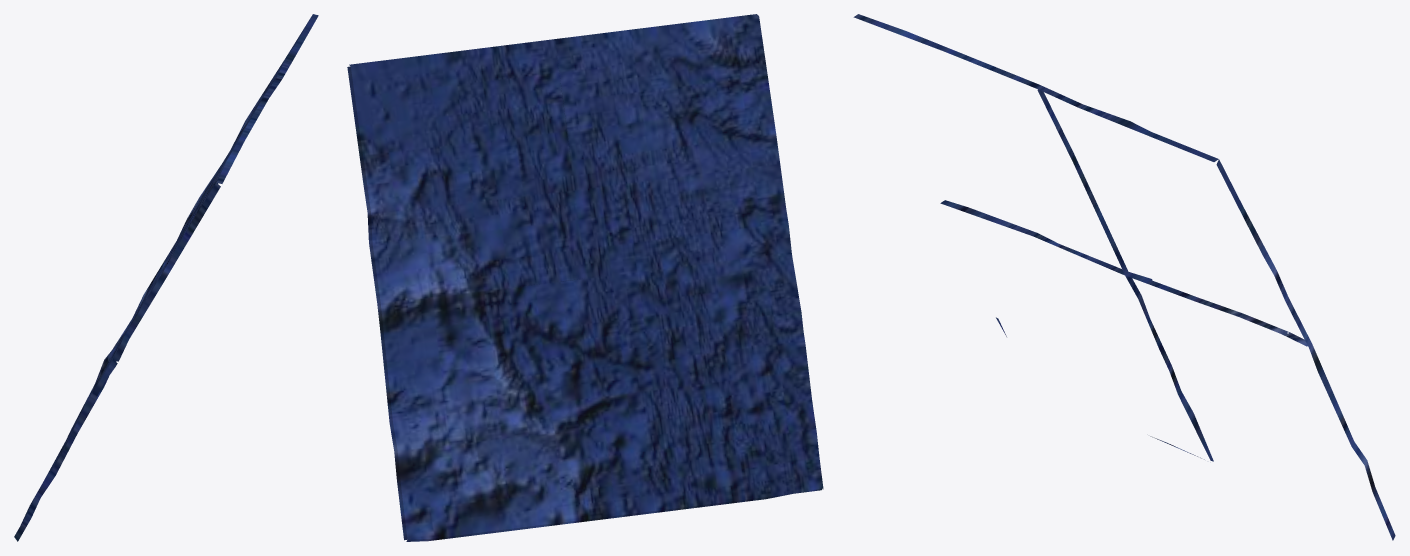
3 views of the same model, side by side, from view 1: azimuth 30°, elevation 25°; view 2: azimuth 150°, elevation 25°; view 3: azimuth 270°, elevation 25° (orthographic). The views are drawn at different scales.
Size of the model in its own units: 298405 by 283079 by 303197.
1 material, 1 textured.
